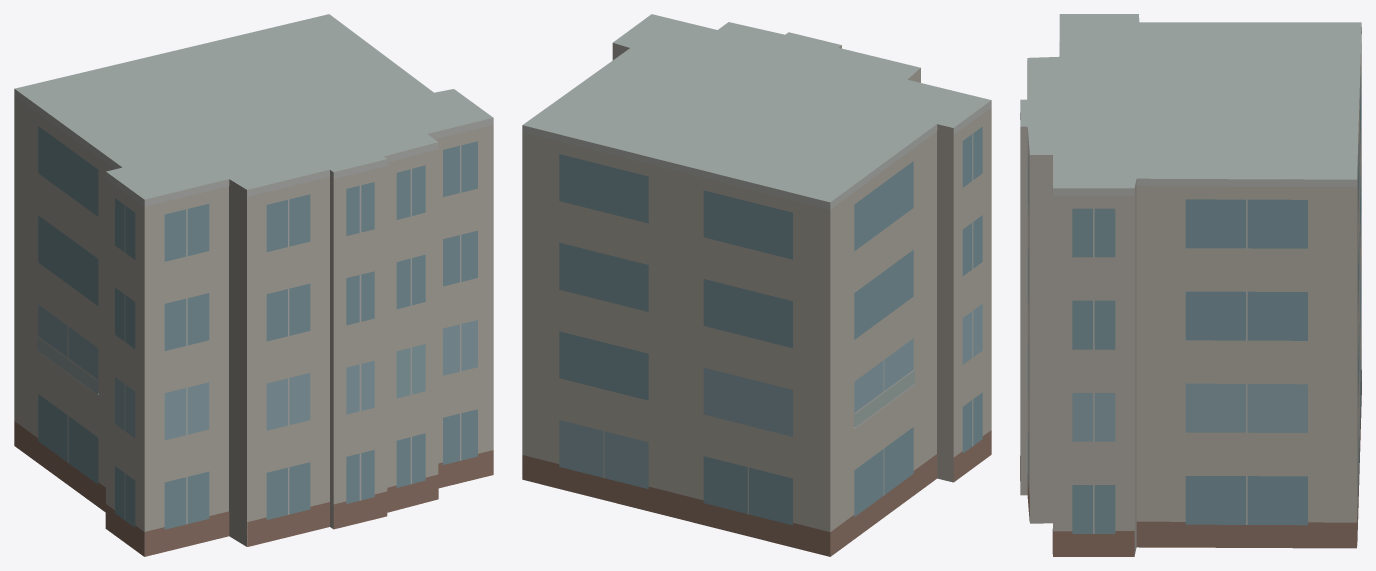
Rendered from survey-upis-32744792.glb.
3 renders of one model, left to right at view 1: azimuth 30°, elevation 25°; view 2: azimuth 150°, elevation 25°; view 3: azimuth 270°, elevation 25°, orthographic. The views are drawn at different scales.
Visible parts, largest first — view 1: survey-upis-32744792.tmp; view 2: survey-upis-32744792.tmp; view 3: survey-upis-32744792.tmp.
Part boxes in pixels (x1,y1,x2,y2): survey-upis-32744792.tmp: (14, 14, 493, 556); survey-upis-32744792.tmp: (522, 14, 991, 556); survey-upis-32744792.tmp: (1020, 14, 1361, 556).
Bounding box in the file's own units: 12.38 × 12.2 × 10.26.
